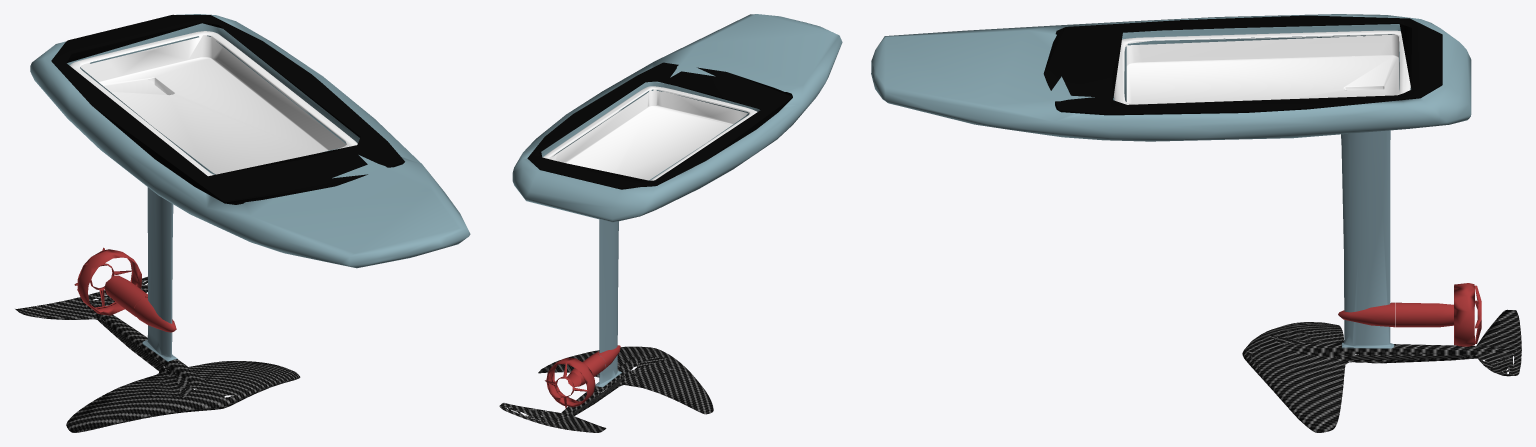
Rendered from efoil.glb.
3 views of the same model, side by side, from view 1: azimuth 30°, elevation 25°; view 2: azimuth 150°, elevation 25°; view 3: azimuth 270°, elevation 25° (orthographic). The views are drawn at different scales.
Parts seen in each view (by area): view 1: Plane002_Material #70_0, Plane008_Retopo_Acrylic Opaque Black Dirty_0, Object003_Material #75_0, Loft001_Material #57_0 (×3), Plane003_Material #54_0, Cylinder002_Carpaint Simple Blue_0, Cylinder001_Carpaint Simple Blue_0, Cylinder003_Carpaint Simple Blue_0; view 2: Plane002_Material #70_0, Plane008_Retopo_Acrylic Opaque Black Dirty_0, Object003_Material #75_0, Loft001_Material #57_0 (×3), Plane003_Material #54_0, Cylinder002_Carpaint Simple Blue_0, Cylinder001_Carpaint Simple Blue_0; view 3: Plane002_Material #70_0, Plane008_Retopo_Acrylic Opaque Black Dirty_0, Object003_Material #75_0, Loft001_Material #57_0 (×3), Plane003_Material #54_0, Cylinder001_Carpaint Simple Blue_0, Cylinder002_Carpaint Simple Blue_0, Cylinder003_Carpaint Simple Blue_0.
Boxes of the visible parts, left/top/right/bottom form: Plane002_Material #70_0: left=30, top=14, right=470, bottom=268; Plane008_Retopo_Acrylic Opaque Black Dirty_0: left=69, top=31, right=357, bottom=176; Object003_Material #75_0: left=51, top=14, right=404, bottom=204; Loft001_Material #57_0 (×3): left=15, top=276, right=299, bottom=432; Plane003_Material #54_0: left=142, top=187, right=177, bottom=360; Cylinder002_Carpaint Simple Blue_0: left=77, top=249, right=141, bottom=315; Cylinder001_Carpaint Simple Blue_0: left=104, top=275, right=147, bottom=316; Cylinder003_Carpaint Simple Blue_0: left=135, top=297, right=176, bottom=332; Plane002_Material #70_0: left=512, top=14, right=842, bottom=222; Plane008_Retopo_Acrylic Opaque Black Dirty_0: left=542, top=86, right=757, bottom=180; Object003_Material #75_0: left=527, top=62, right=792, bottom=189; Loft001_Material #57_0 (×3): left=499, top=346, right=713, bottom=432; Plane003_Material #54_0: left=595, top=219, right=621, bottom=386; Cylinder002_Carpaint Simple Blue_0: left=546, top=357, right=595, bottom=407; Cylinder001_Carpaint Simple Blue_0: left=567, top=354, right=605, bottom=386; Plane002_Material #70_0: left=871, top=14, right=1471, bottom=141; Plane008_Retopo_Acrylic Opaque Black Dirty_0: left=1114, top=30, right=1410, bottom=104; Object003_Material #75_0: left=1043, top=15, right=1442, bottom=115; Loft001_Material #57_0 (×3): left=1242, top=309, right=1521, bottom=432; Plane003_Material #54_0: left=1341, top=130, right=1394, bottom=348; Cylinder001_Carpaint Simple Blue_0: left=1395, top=302, right=1453, bottom=327; Cylinder002_Carpaint Simple Blue_0: left=1454, top=283, right=1474, bottom=346; Cylinder003_Carpaint Simple Blue_0: left=1338, top=302, right=1395, bottom=327.
Size of what is drawn, in the model's own units: 1.42 by 1.94 by 3.57.
Materials: 7 (1 with a texture image).
